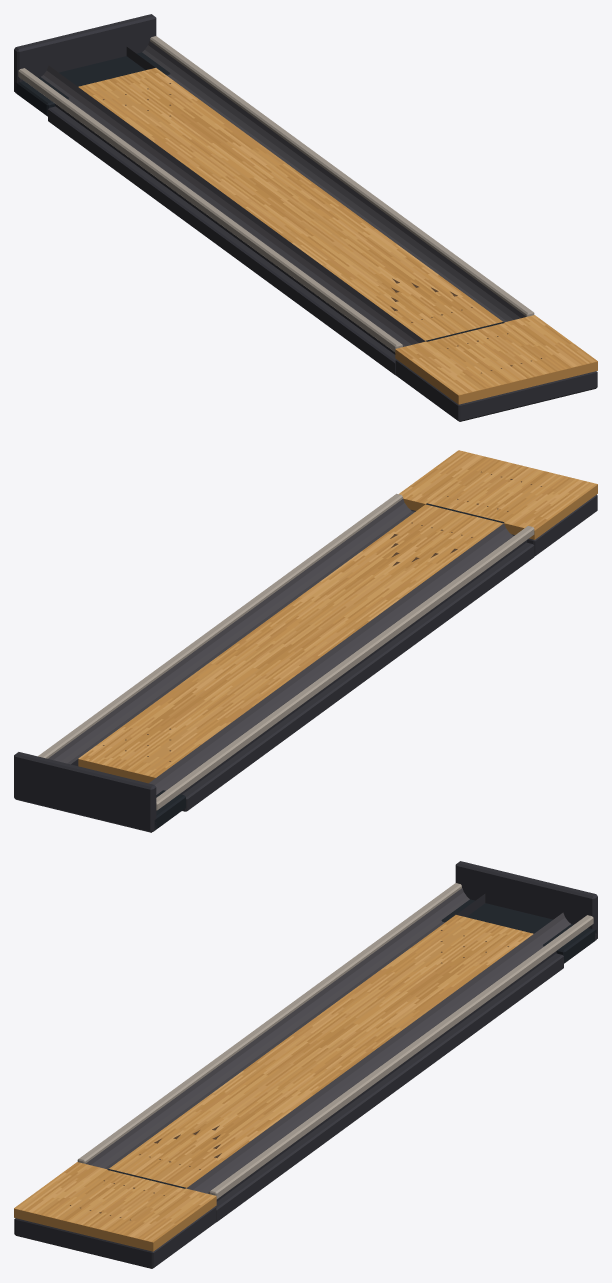
The model's file is BowlingLane.fbx.
3 views of the same model, one above another, from view 1: azimuth 30°, elevation 25°; view 2: azimuth 150°, elevation 25°; view 3: azimuth 330°, elevation 25° (orthographic).
Visible parts, largest first — view 1: Lane_Surface, Gutter_Left, Approach_Surface, Gutter_Right, Lane_Foundation, Edge_Rail_Left, Pit_Backstop, Edge_Rail_Right, Approach_Foundation, Pin_Pit_Base, Approach_Wood_Edge; view 2: Lane_Surface, Approach_Surface, Gutter_Left, Gutter_Right, Lane_Foundation, Pit_Backstop, Edge_Rail_Left, Edge_Rail_Right, Approach_Foundation, Approach_Wood_Edge, Lane_Wood_Edge, Pin_Pit_Base; view 3: Lane_Surface, Gutter_Right, Approach_Surface, Gutter_Left, Lane_Foundation, Edge_Rail_Right, Pit_Backstop, Edge_Rail_Left, Approach_Foundation, Pin_Pit_Base, Approach_Wood_Edge.
Part boxes in pixels (bbox=[...]): Lane_Surface: bbox=[78, 68, 502, 340]; Gutter_Left: bbox=[41, 65, 425, 354]; Approach_Surface: bbox=[396, 315, 597, 394]; Gutter_Right: bbox=[126, 41, 526, 322]; Lane_Foundation: bbox=[48, 106, 396, 375]; Edge_Rail_Left: bbox=[18, 68, 402, 352]; Pit_Backstop: bbox=[14, 14, 156, 92]; Edge_Rail_Right: bbox=[150, 36, 534, 316]; Approach_Foundation: bbox=[395, 359, 597, 421]; Pin_Pit_Base: bbox=[15, 52, 170, 116]; Approach_Wood_Edge: bbox=[395, 349, 597, 404]; Lane_Surface: bbox=[78, 504, 502, 777]; Approach_Surface: bbox=[399, 450, 597, 530]; Gutter_Left: bbox=[149, 523, 526, 794]; Gutter_Right: bbox=[48, 499, 414, 765]; Lane_Foundation: bbox=[182, 542, 534, 811]; Pit_Backstop: bbox=[14, 752, 156, 832]; Edge_Rail_Left: bbox=[156, 526, 534, 810]; Edge_Rail_Right: bbox=[38, 493, 402, 758]; Approach_Foundation: bbox=[411, 494, 597, 556]; Approach_Wood_Edge: bbox=[403, 484, 597, 539]; Lane_Wood_Edge: bbox=[78, 523, 503, 783]; Pin_Pit_Base: bbox=[153, 790, 185, 831]; Lane_Surface: bbox=[109, 915, 533, 1187]; Gutter_Right: bbox=[186, 912, 570, 1201]; Approach_Surface: bbox=[14, 1162, 215, 1241]; Gutter_Left: bbox=[85, 888, 485, 1169]; Lane_Foundation: bbox=[215, 953, 563, 1222]; Edge_Rail_Right: bbox=[209, 915, 593, 1199]; Pit_Backstop: bbox=[455, 861, 597, 940]; Edge_Rail_Left: bbox=[77, 883, 461, 1163]; Approach_Foundation: bbox=[14, 1206, 216, 1268]; Pin_Pit_Base: bbox=[441, 899, 596, 963]; Approach_Wood_Edge: bbox=[14, 1196, 216, 1251].
Bounding box in the file's own units: 1.91 × 0.65 × 10.58.
1 material, 1 textured.
